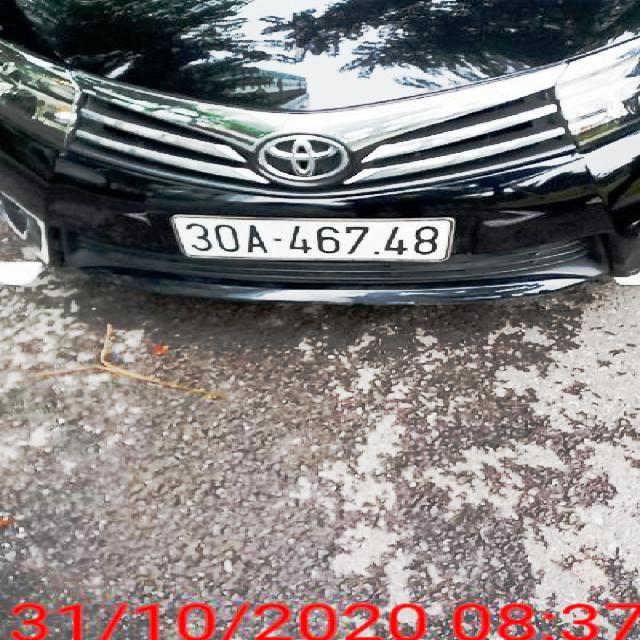license_plate: (176, 217, 452, 264)
